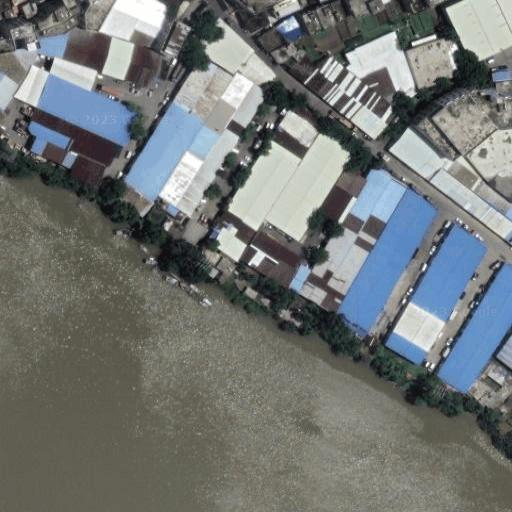building: (112, 54, 231, 218), (208, 108, 321, 263), (151, 73, 265, 225), (298, 164, 408, 314), (334, 186, 437, 331), (385, 223, 489, 366), (389, 125, 512, 244), (263, 127, 360, 244), (16, 65, 141, 147), (438, 264, 512, 392), (304, 52, 397, 139), (28, 109, 124, 190), (64, 26, 166, 89), (346, 32, 421, 106), (409, 88, 491, 155), (239, 233, 312, 293), (200, 17, 253, 77), (463, 127, 512, 184), (408, 37, 459, 88), (322, 168, 365, 222), (50, 57, 99, 91), (467, 88, 512, 125), (32, 0, 79, 35), (237, 52, 276, 94), (238, 279, 275, 310), (270, 37, 307, 66), (165, 21, 192, 56), (285, 54, 319, 81), (78, 0, 107, 29), (276, 14, 304, 42), (487, 171, 512, 202), (260, 25, 287, 52), (238, 7, 268, 31), (7, 21, 34, 46), (315, 2, 339, 28), (300, 9, 324, 35), (143, 205, 169, 229), (161, 216, 185, 239), (410, 34, 437, 49), (409, 0, 431, 17), (493, 71, 512, 90), (262, 4, 277, 22), (373, 0, 391, 8)
